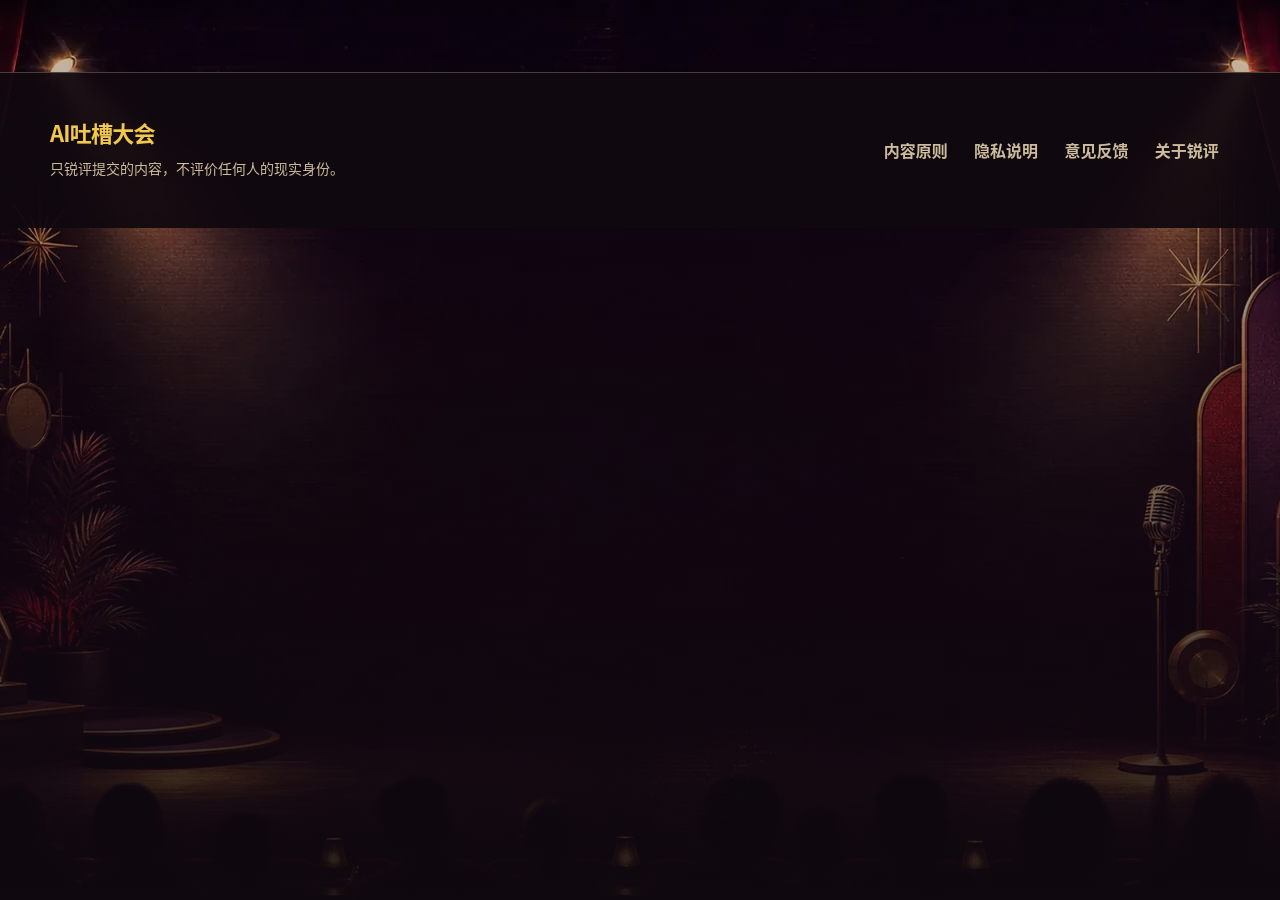
Test: Footer › opens the content principles dialog
The width and height of the screenshot is (1280, 900).
Click the button "内容原则" at coordinates (916, 151), box [872,129,959,173]
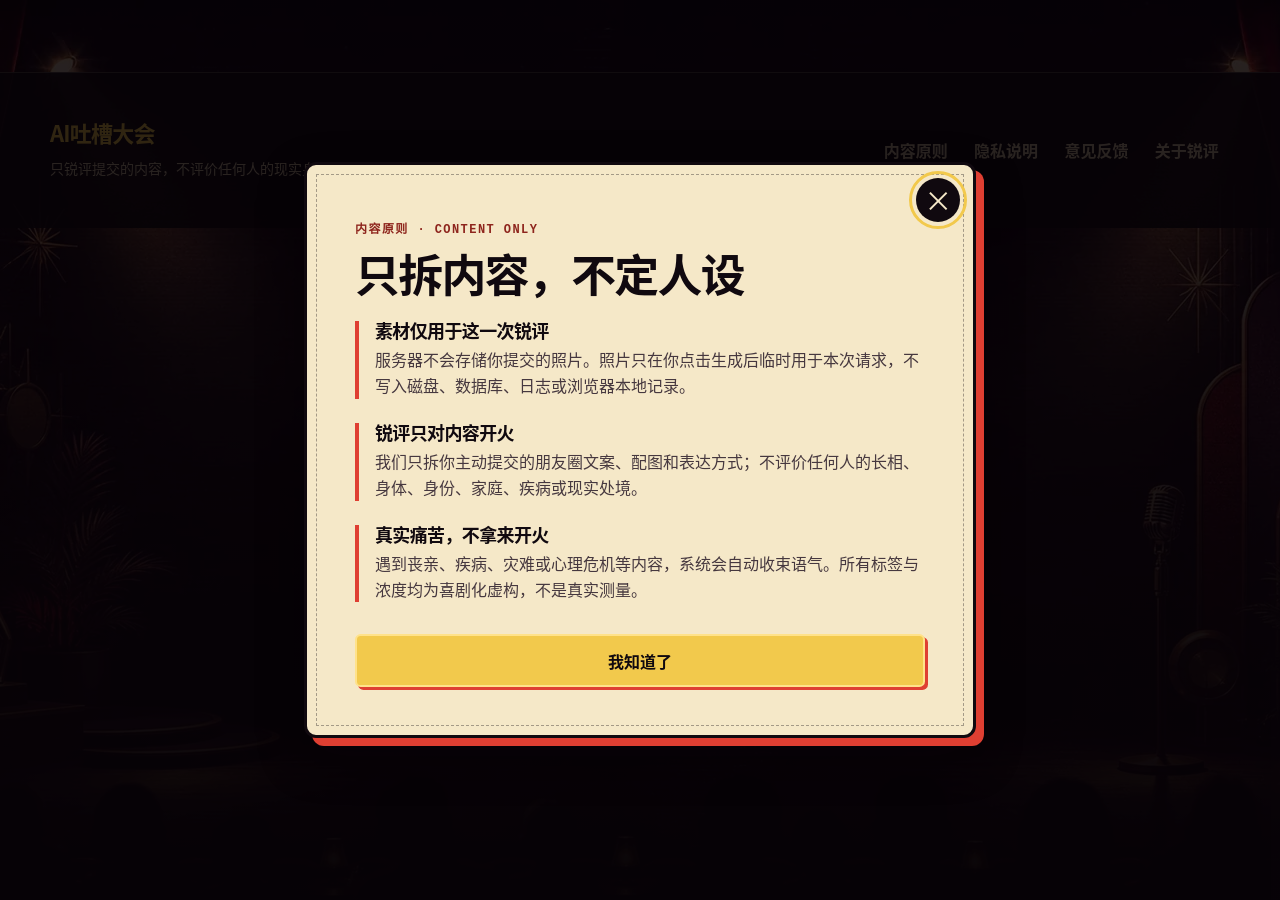
Check: the dialog "只拆内容，不定人设" is shown, box [304,162,976,738]
